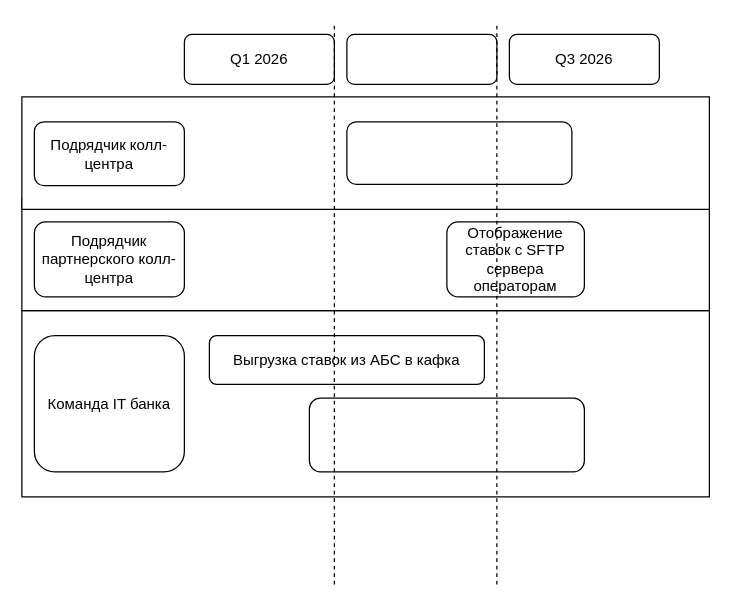
Some shapes in this 731 by 608 pixel diagram are drawn without their labels. Each missing label, with the box of its shape:
Q2 2026: (346, 33, 497, 84)
Получение и отображение ставок депозита из кафка: (346, 121, 572, 184)
Создание адаптера к партнерскому колл-центру: (308, 397, 584, 472)
